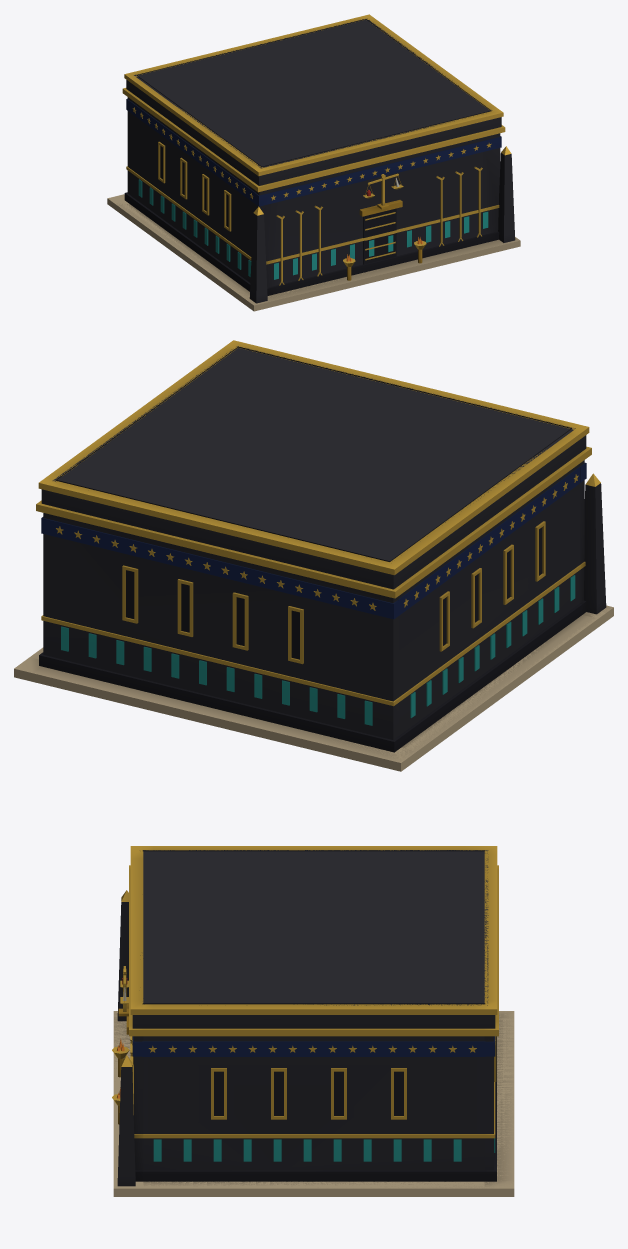
Rendered from AnubisStatueFloor.fbx.
3 renders of one model, top to bottom at view 1: azimuth 30°, elevation 25°; view 2: azimuth 150°, elevation 25°; view 3: azimuth 270°, elevation 25°, orthographic. The views are drawn at different scales.
Parts seen in each view (by area): view 1: AN_F_Rings, AN_S_All, AN_F_Smooth, AN_F_Quiet, AN_F_Props, AN_F_Glass; view 2: AN_F_Rings, AN_S_All, AN_F_Smooth, AN_F_Quiet, AN_F_Props, AN_F_Glass; view 3: AN_S_All, AN_F_Rings, AN_F_Smooth, AN_F_Quiet, AN_F_Props, AN_F_Glass.
Part boxes in pixels (<box>): AN_F_Rings: <box>123,14,504,287</box>; AN_S_All: <box>107,18,520,311</box>; AN_F_Smooth: <box>122,74,505,285</box>; AN_F_Quiet: <box>115,192,519,305</box>; AN_F_Props: <box>249,146,515,303</box>; AN_F_Glass: <box>160,146,422,261</box>; AN_F_Rings: <box>36,340,591,739</box>; AN_S_All: <box>14,346,613,771</box>; AN_F_Smooth: <box>36,427,591,725</box>; AN_F_Quiet: <box>14,600,612,762</box>; AN_F_Props: <box>584,473,606,614</box>; AN_F_Glass: <box>126,527,542,659</box>; AN_S_All: <box>113,850,514,1196</box>; AN_F_Rings: <box>129,846,498,1170</box>; AN_F_Smooth: <box>112,966,498,1161</box>; AN_F_Quiet: <box>114,1011,513,1188</box>; AN_F_Props: <box>112,890,135,1185</box>; AN_F_Glass: <box>117,1038,403,1115</box>.
Size of the model in its own units: 60 by 20 by 60.
